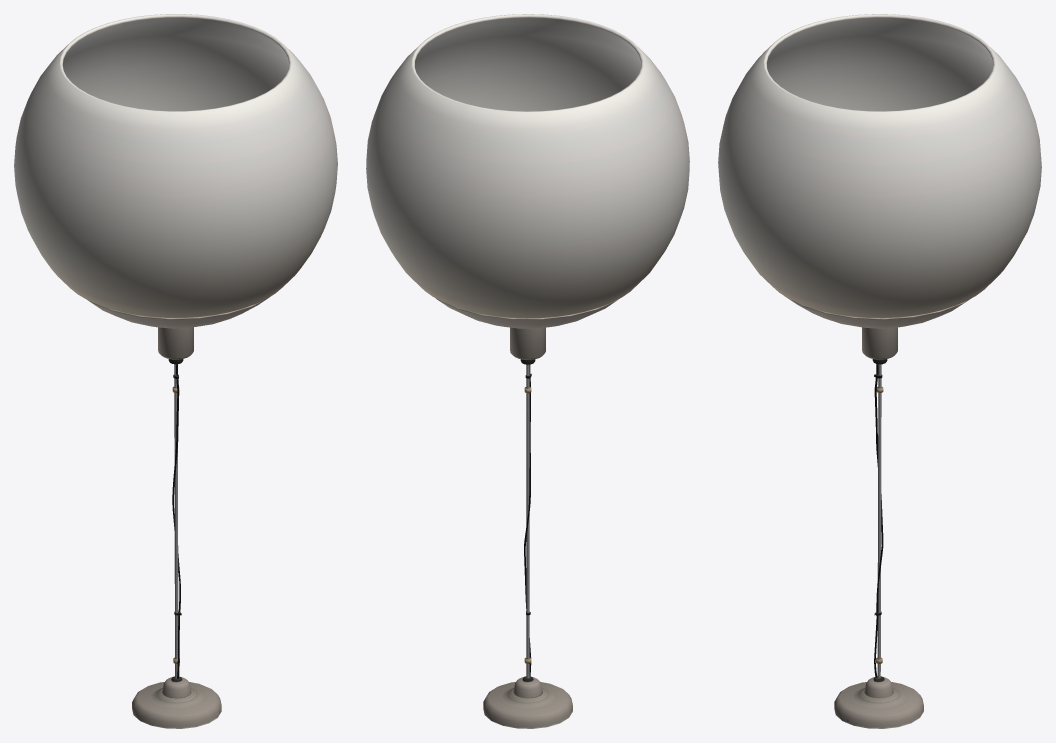
The model's file is Ceiling_lamp_002.glb.
The picture shows the model from 3 angles, left to right: view 1: azimuth 30°, elevation 25°; view 2: azimuth 150°, elevation 25°; view 3: azimuth 270°, elevation 25°; orthographic projection.
Parts seen in each view (by area): view 1: Ceiling_lamp_002; view 2: Ceiling_lamp_002; view 3: Ceiling_lamp_002.
Part boxes in pixels (bbox=[...]): Ceiling_lamp_002: bbox=[14, 14, 337, 728]; Ceiling_lamp_002: bbox=[366, 14, 689, 728]; Ceiling_lamp_002: bbox=[718, 14, 1041, 728].
Bounding box in the file's own units: 0.4316 × 0.9516 × 0.4317.
Materials: 1 (1 with a texture image).
